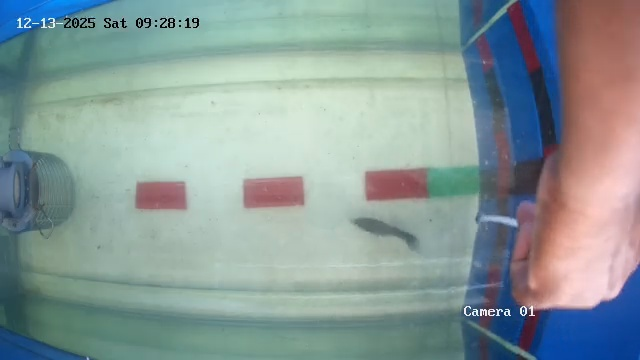fish: (364, 219, 444, 244)
